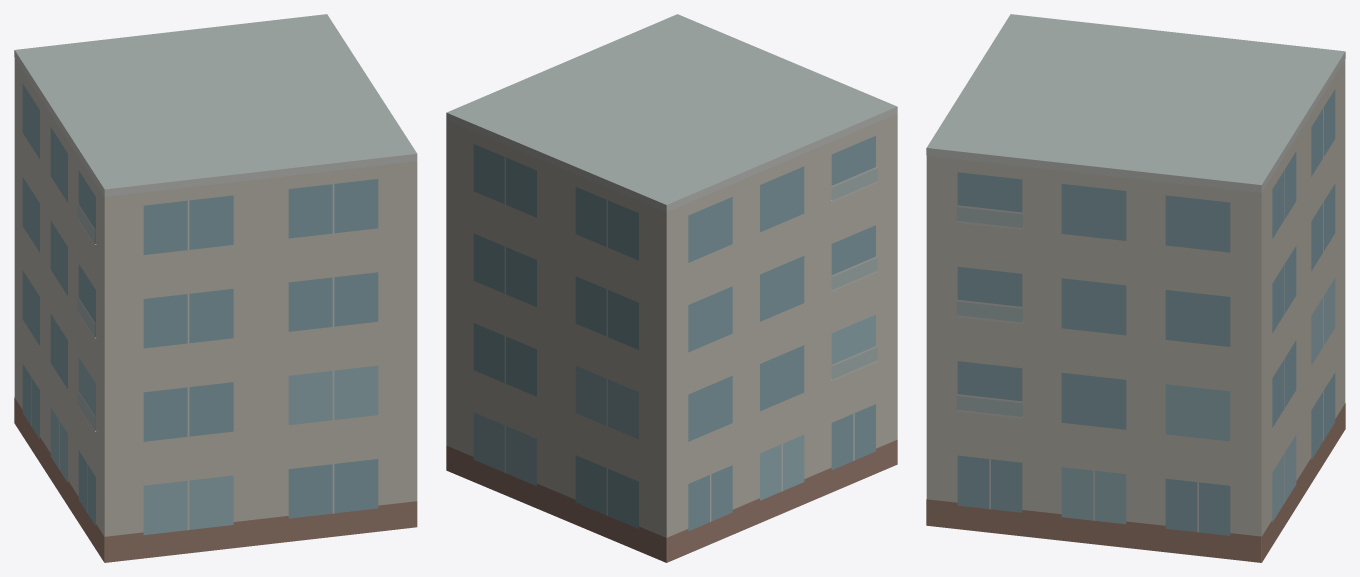
The model's file is survey-upis-32810970.glb.
3 views of the same model, side by side, from view 1: azimuth 30°, elevation 25°; view 2: azimuth 150°, elevation 25°; view 3: azimuth 270°, elevation 25° (orthographic). The views are drawn at different scales.
Parts seen in each view (by area): view 1: survey-upis-32810970.tmp; view 2: survey-upis-32810970.tmp; view 3: survey-upis-32810970.tmp.
Boxes of the visible parts, bbox=[...] form: survey-upis-32810970.tmp: bbox=[14, 14, 417, 562]; survey-upis-32810970.tmp: bbox=[446, 14, 897, 562]; survey-upis-32810970.tmp: bbox=[926, 14, 1345, 562].
Bounding box in the file's own units: 11.86 × 12.2 × 12.27.
